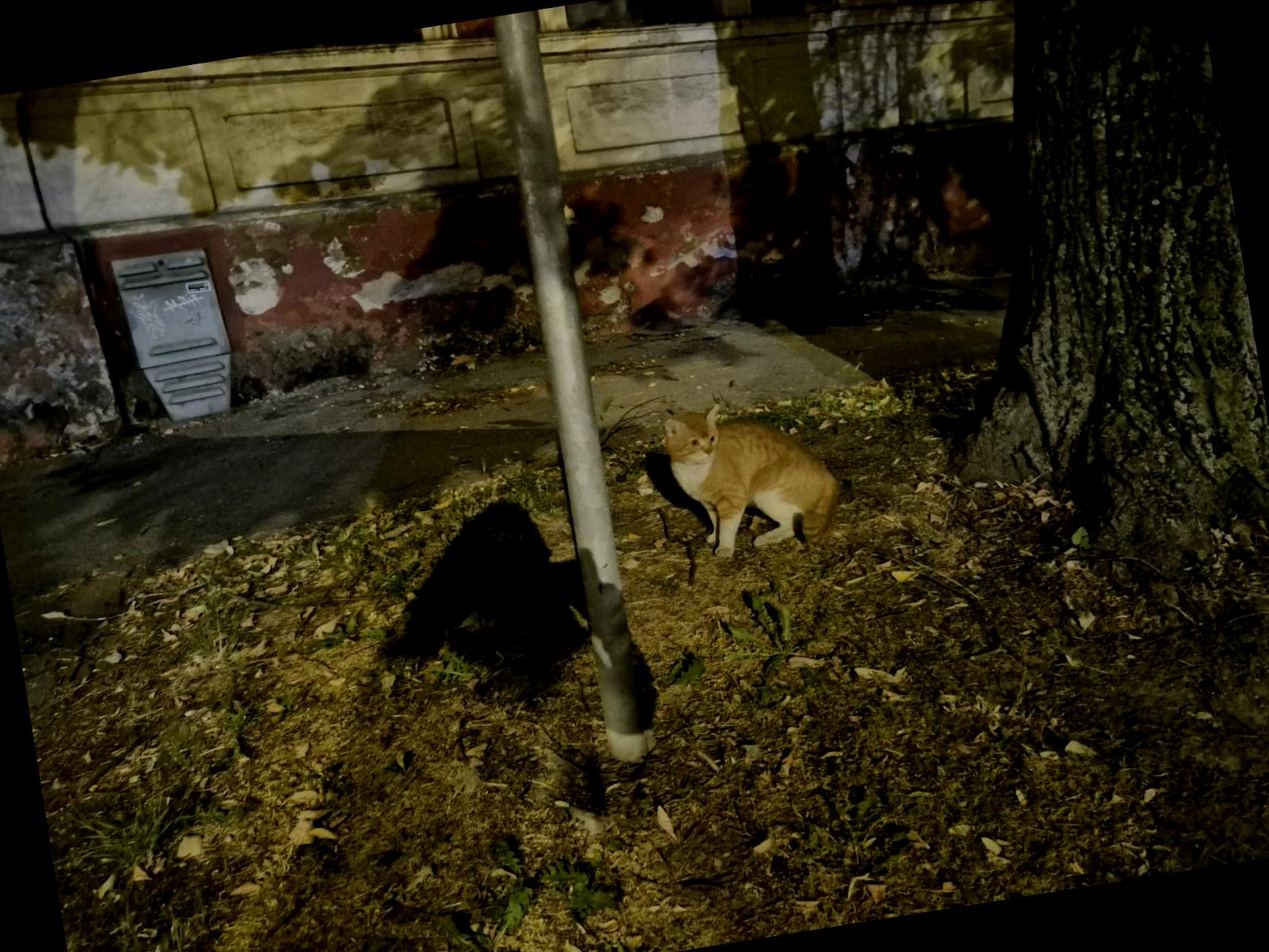macka: (659, 384, 848, 565)
